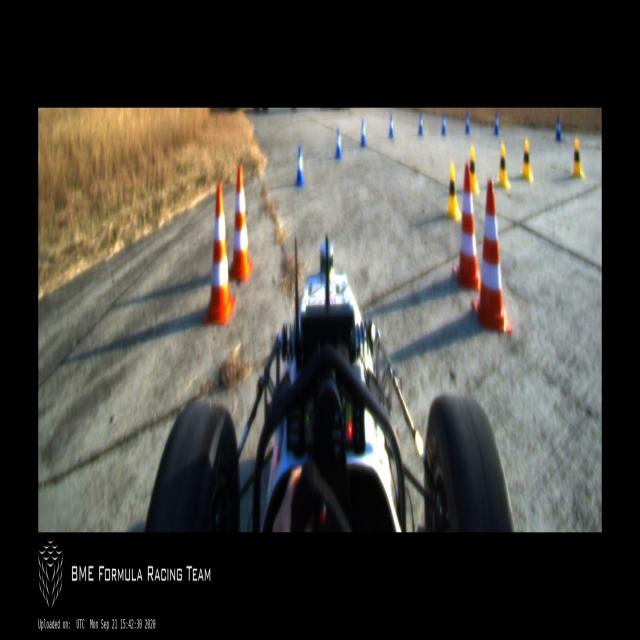blue_cone: (295, 146, 305, 186), (334, 128, 342, 158), (360, 121, 366, 147), (555, 117, 561, 141), (418, 112, 423, 137), (389, 114, 394, 138), (465, 111, 470, 135), (494, 111, 499, 135), (441, 112, 446, 134)
large_orange_cone: (472, 178, 513, 334), (202, 182, 235, 326), (454, 163, 481, 289), (229, 165, 254, 282)
yellow_cone: (445, 163, 461, 220), (496, 143, 509, 189), (520, 138, 533, 180), (469, 146, 480, 194), (571, 138, 584, 178)
